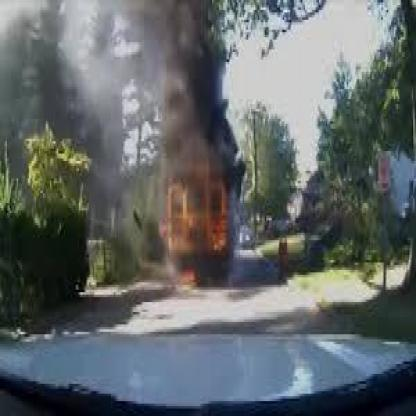smoke: (113, 0, 250, 181)
